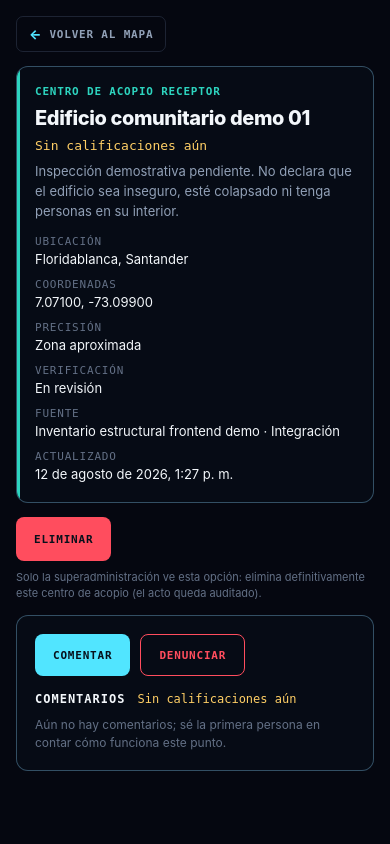
it: si el backend rechaza la eliminación, la ficha muestra el motivo y no navega
Click the button with test id "map-point-delete-center". click: (64, 539)
box: [16,517,111,561]
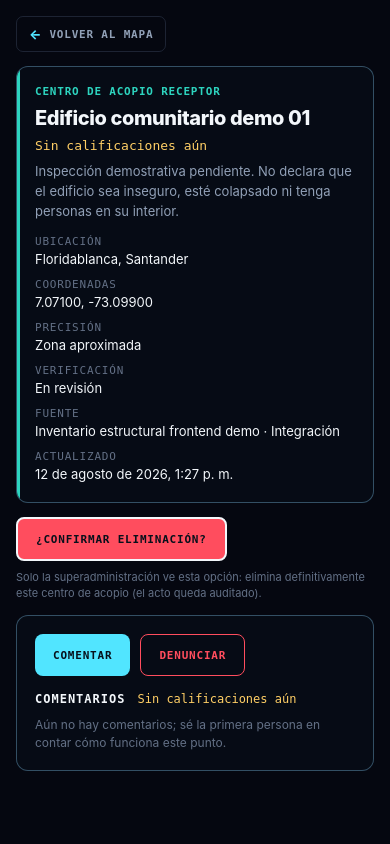
Click the button with test id "map-point-delete-center". click: (121, 539)
box: [16,517,227,561]
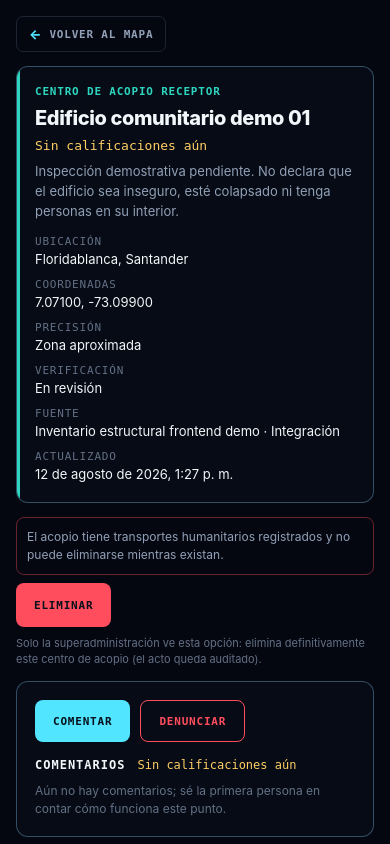
Expected: the text "transportes humanitarios registrados" is shown, [27,529,354,562]
